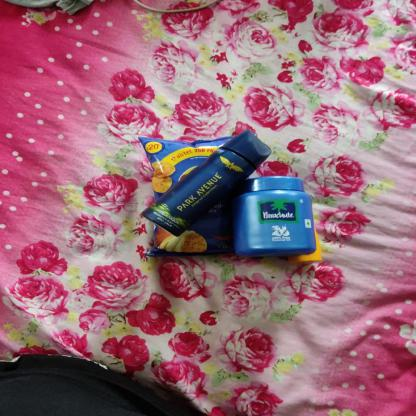indian_magic_masala: (142, 138, 246, 252)
